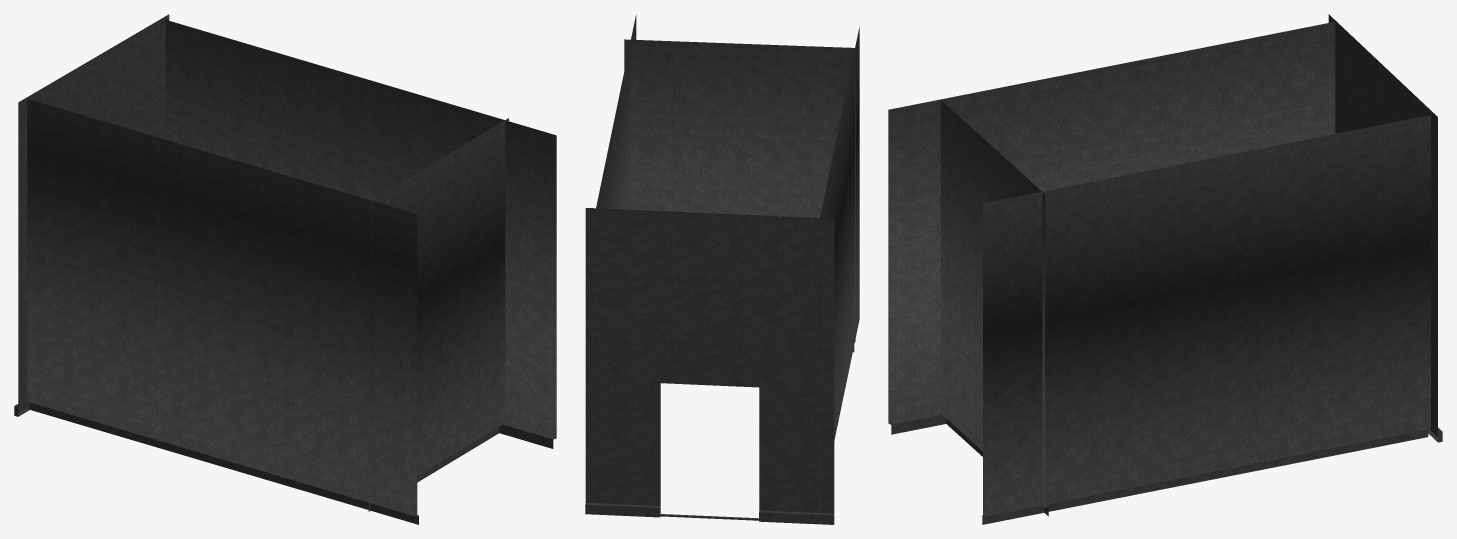
The model's file is main_entrance.fbx.
3 views of the same model, side by side, from view 1: azimuth 30°, elevation 25°; view 2: azimuth 150°, elevation 25°; view 3: azimuth 270°, elevation 25° (orthographic). The views are drawn at different scales.
Visible parts, largest first — view 1: wall016, wall015, wall013, wall012, wall014, doorwall; view 2: doorwall, wall013, wall015, wall016, wall012, wall014; view 3: wall014, wall012, wall015, wall016, wall013, doorwall.
Part boxes in pixels (x1,y1,x2,y2): wall016: [27, 99, 223, 467]; wall015: [222, 156, 418, 524]; wall013: [368, 118, 508, 511]; wall012: [360, 77, 556, 448]; wall014: [165, 20, 359, 196]; doorwall: [14, 14, 169, 416]; doorwall: [585, 208, 834, 524]; wall013: [624, 39, 855, 352]; wall015: [839, 27, 859, 414]; wall016: [815, 123, 839, 513]; wall012: [616, 14, 636, 209]; wall014: [596, 112, 615, 208]; wall014: [1205, 115, 1430, 480]; wall012: [982, 159, 1205, 524]; wall015: [888, 65, 1113, 434]; wall016: [1113, 22, 1335, 177]; wall013: [940, 100, 1048, 516]; doorwall: [1328, 14, 1442, 442].
Bounding box in the file's own units: 9.42 × 7.58 × 11.71.
